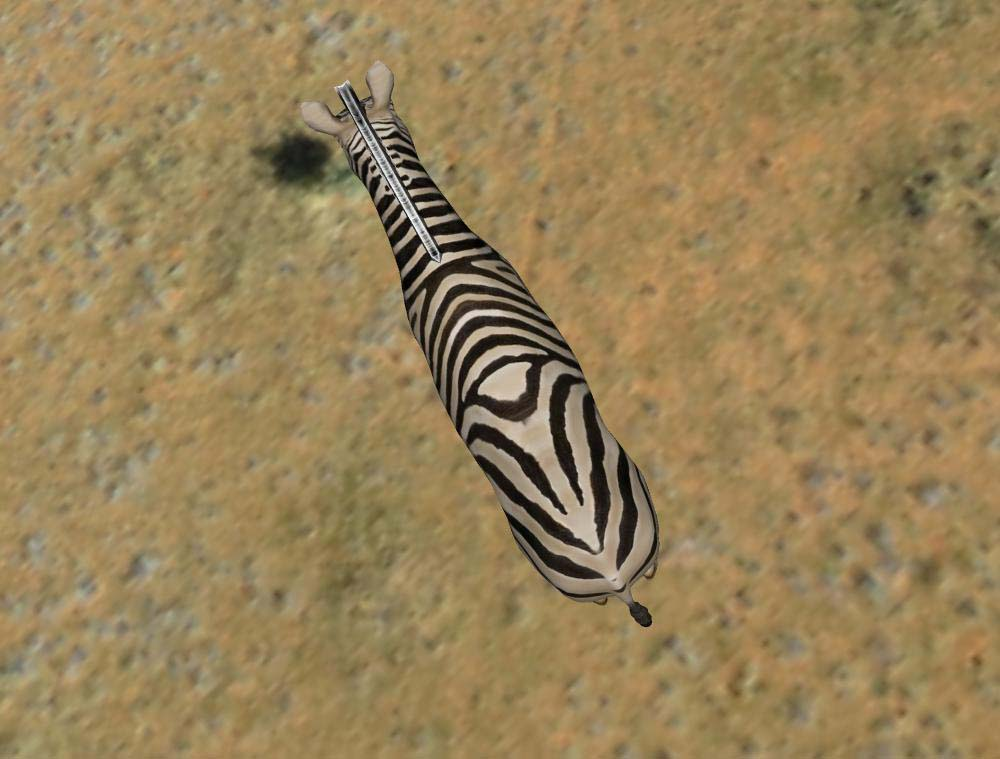zebra: (293, 54, 667, 639)
